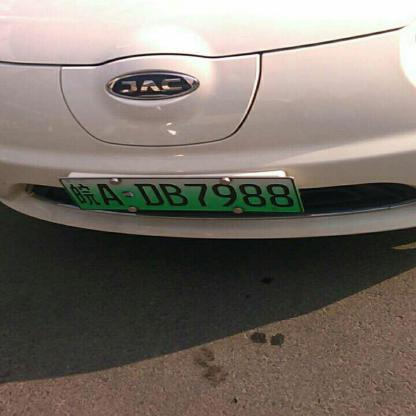lp: (61, 178, 301, 210)
